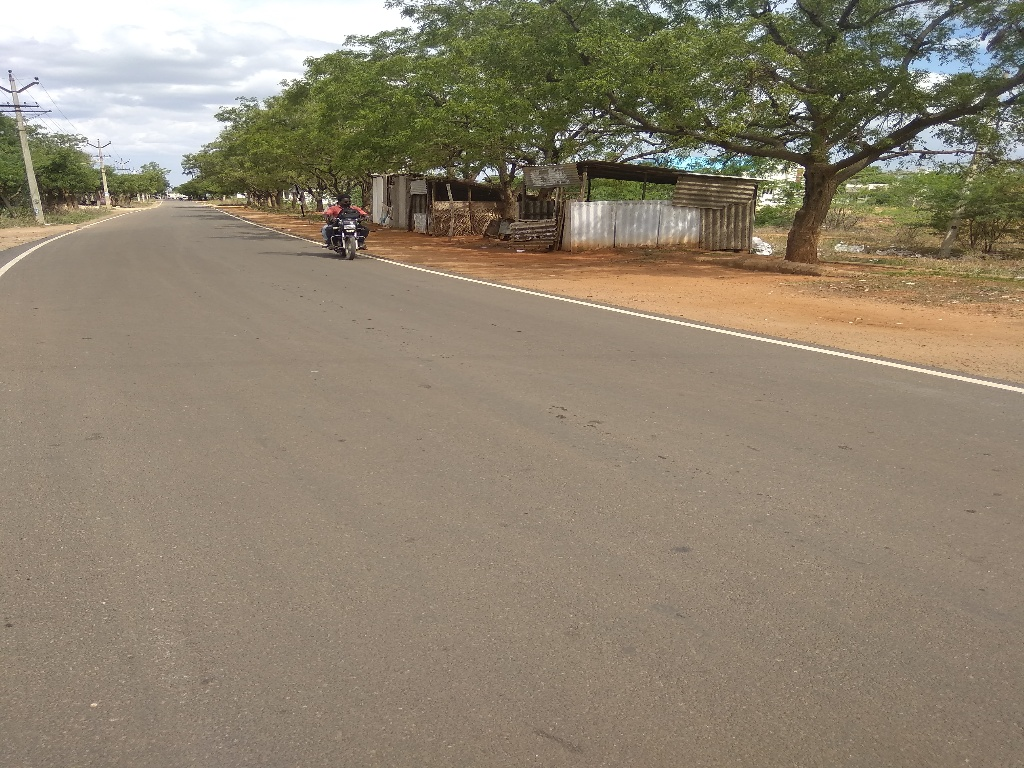biker: (309, 168, 381, 267)
nohelmet: (330, 188, 358, 215)
